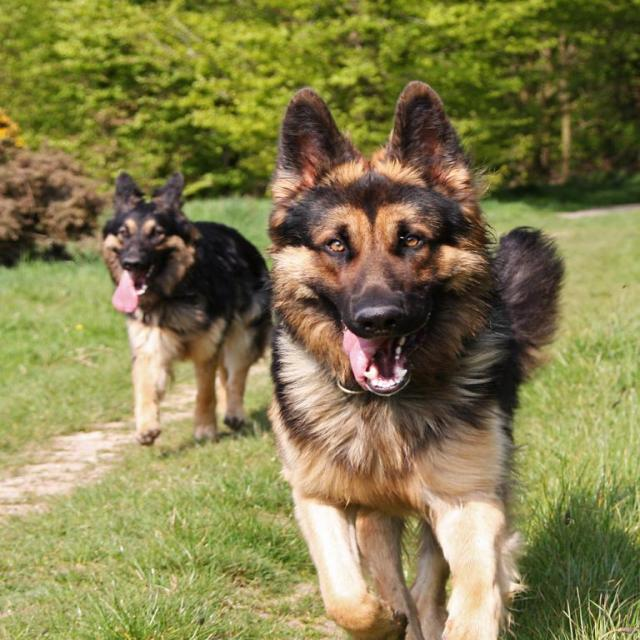Dog: (259, 77, 576, 639), (101, 170, 275, 444)
